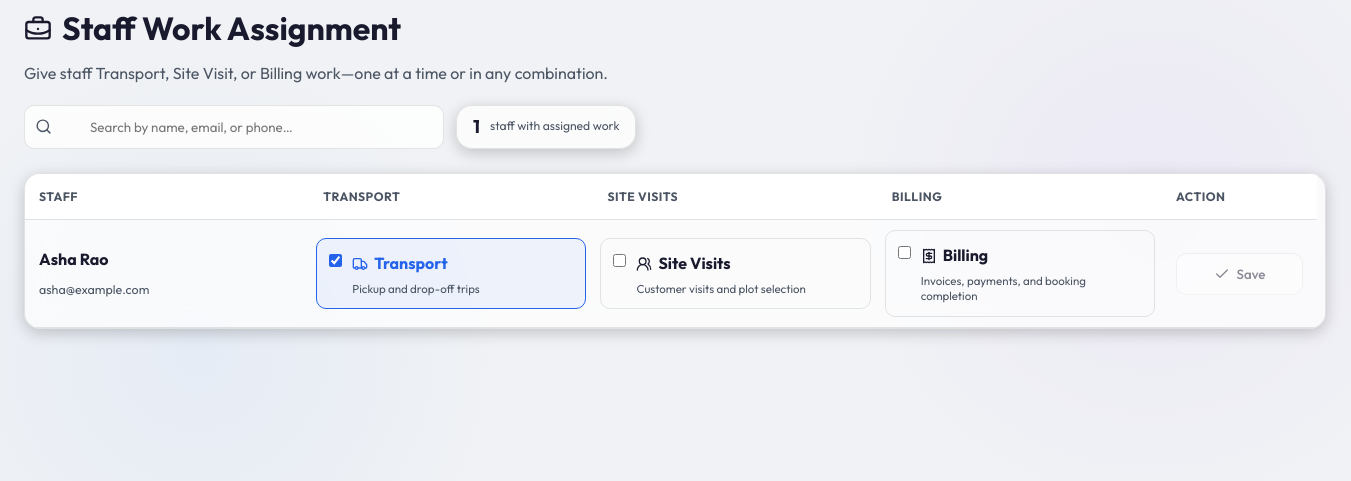
PickupPlotWorkAssignments › filters the staff list without changing assignments
Check: the text "Asha Rao" is shown, box [39,249,108,269]
Type "billing manager" into the search field named "Search staff" at (246, 127), box [58,106,433,148]
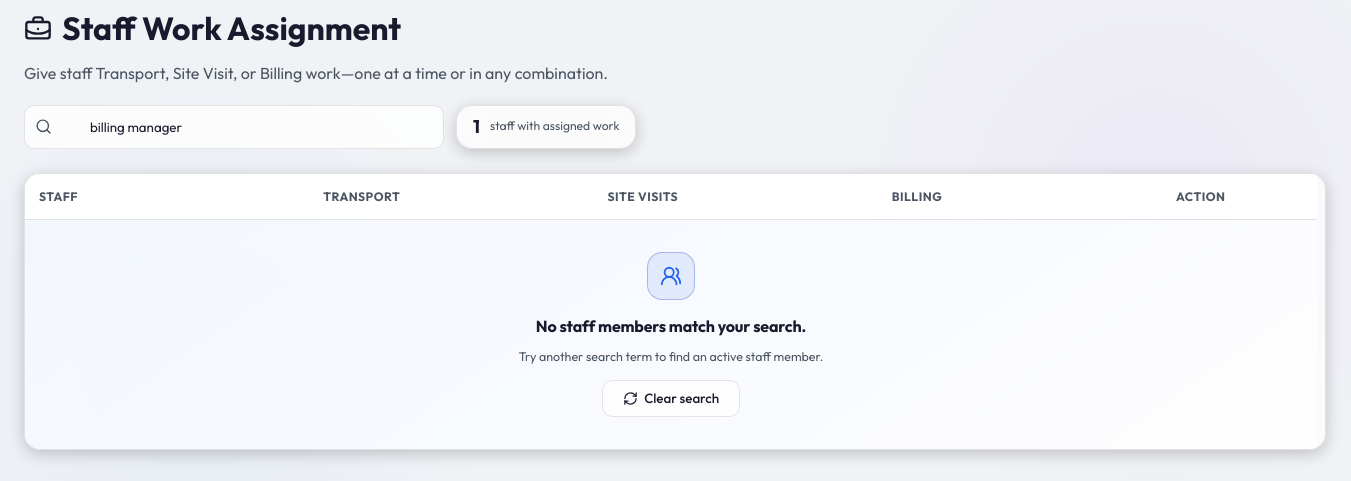
Check: the text "Asha Rao" is gone
Check: the heading "No staff members match your search." is shown, box [519,314,823,339]
